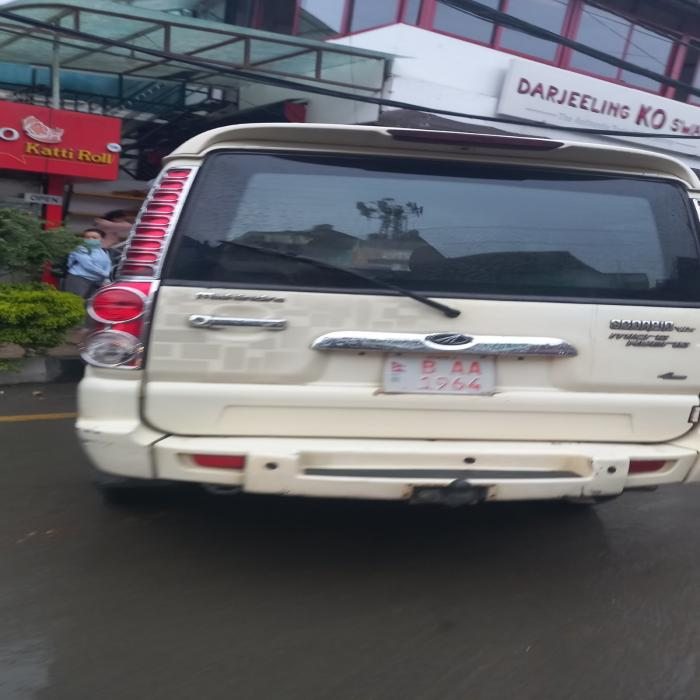number_plate: (382, 353, 491, 393)
